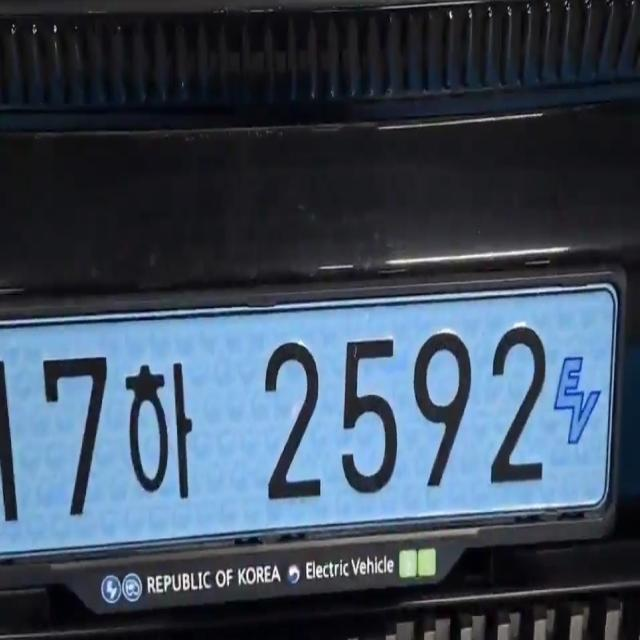car: (3, 283, 618, 555)
carev: (547, 299, 608, 483)
